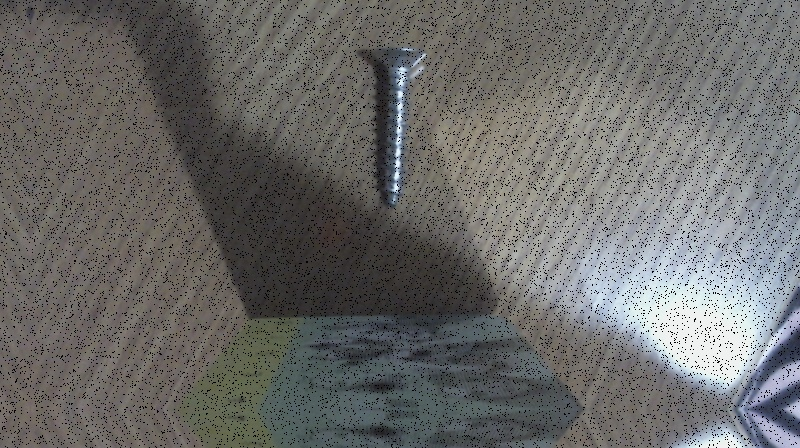S001: (359, 41, 432, 216)
